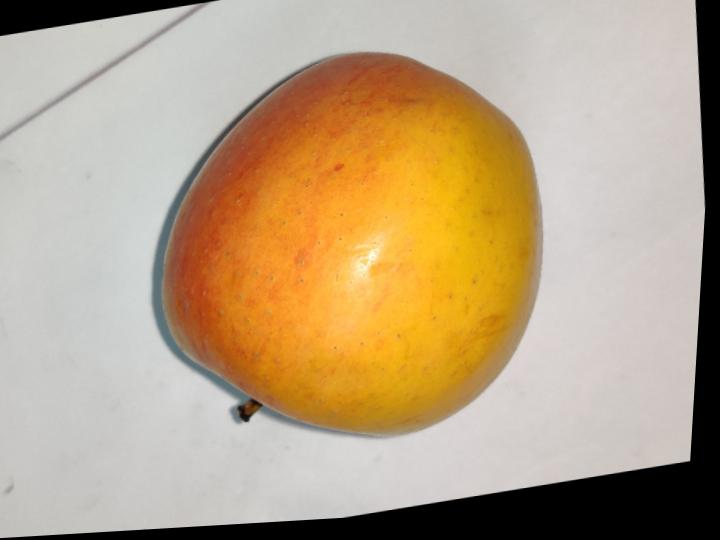apple: (164, 54, 542, 435)
